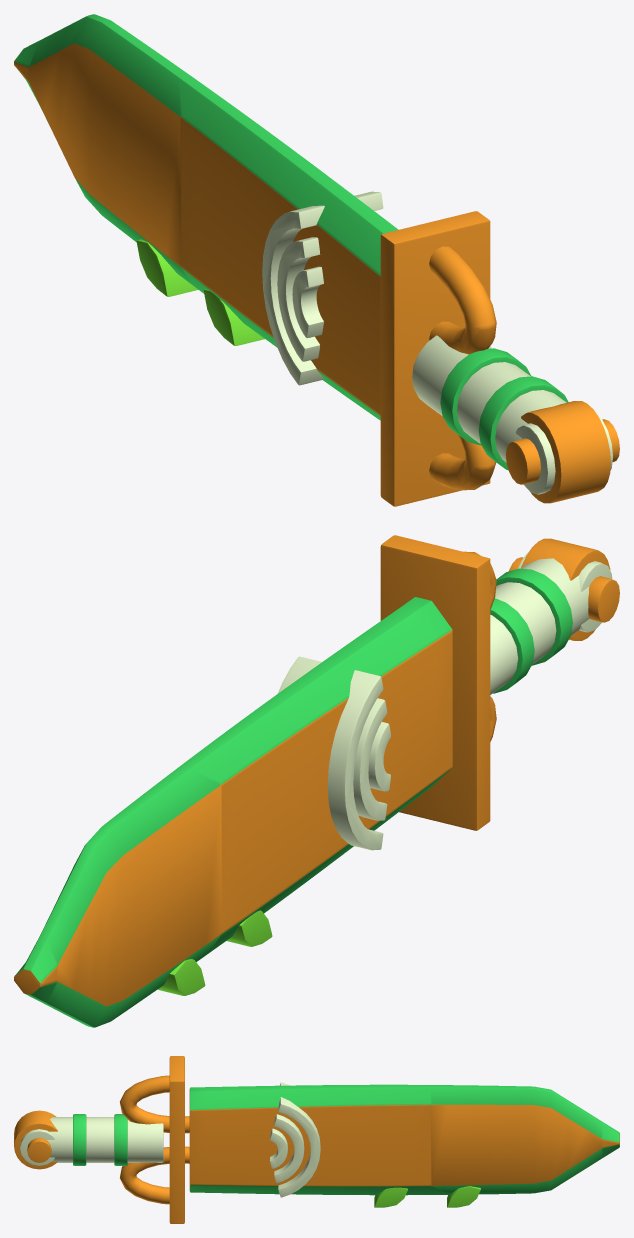
Rendered from Sword_HeartwoodBroadsword.glb.
3 renders of one model, top to bottom at view 1: azimuth 30°, elevation 25°; view 2: azimuth 150°, elevation 25°; view 3: azimuth 270°, elevation 25°, orthographic. The views are drawn at different scales.
Visible parts, largest first — view 1: Sword_HeartwoodBroadsword; view 2: Sword_HeartwoodBroadsword; view 3: Sword_HeartwoodBroadsword.
Boxes of the visible parts, x1=… form: Sword_HeartwoodBroadsword: x1=14, y1=14, x2=619, y2=506; Sword_HeartwoodBroadsword: x1=14, y1=535, x2=619, y2=1027; Sword_HeartwoodBroadsword: x1=14, y1=1056, x2=619, y2=1223.
Size of the model in its own units: 0.1 by 0.26 by 1.
Materials: 1 (1 with a texture image).
